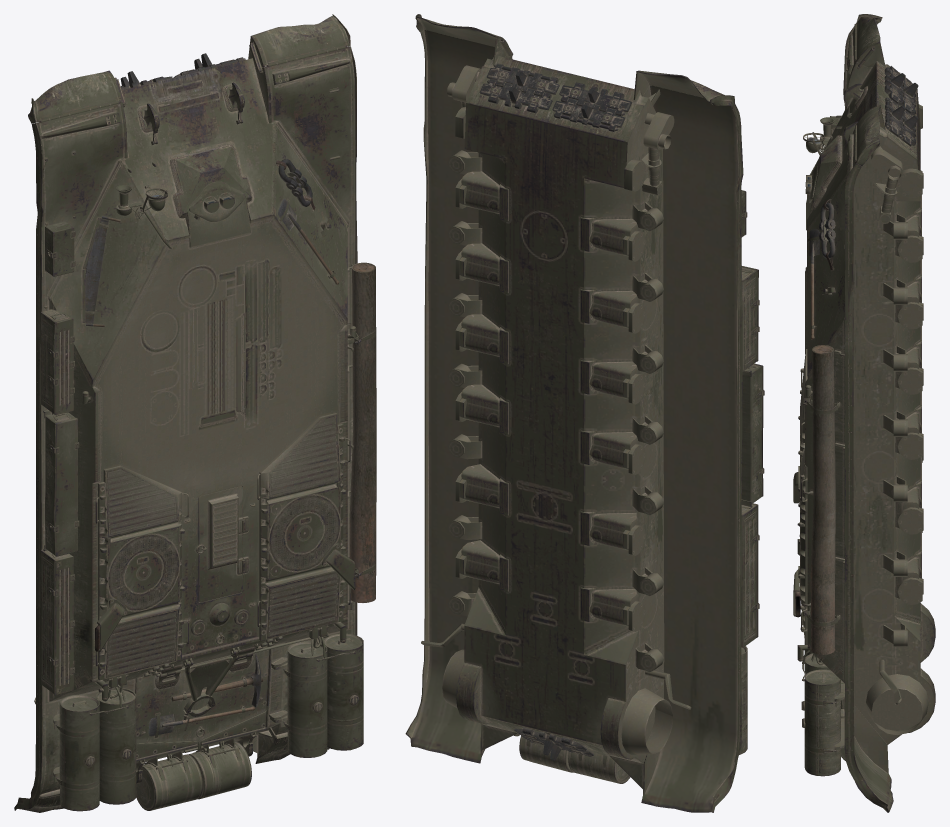
File: Hull.glb
3 views of the same model, side by side, from view 1: azimuth 30°, elevation 25°; view 2: azimuth 150°, elevation 25°; view 3: azimuth 270°, elevation 25° (orthographic). The views are drawn at different scales.
Visible parts, largest first — view 1: set_0_group_0; view 2: set_0_group_0; view 3: set_0_group_0.
Boxes of the visible parts, left/top/right/bottom form: set_0_group_0: left=14, top=14, right=376, bottom=812; set_0_group_0: left=405, top=14, right=764, bottom=812; set_0_group_0: left=793, top=14, right=935, bottom=812.
Size of the model in its own units: 3.41 by 7.35 by 1.4.
1 material, 1 textured.
